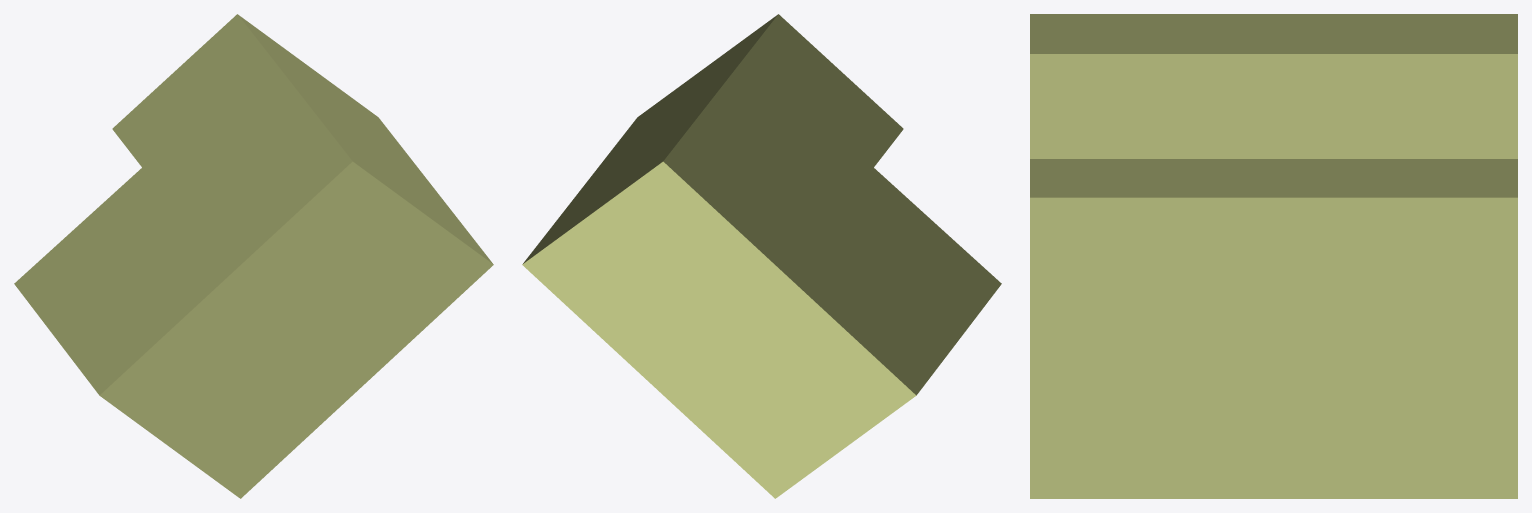
The picture shows the model from 3 angles, left to right: view 1: azimuth 30°, elevation 25°; view 2: azimuth 150°, elevation 25°; view 3: azimuth 270°, elevation 25°; orthographic projection. The views are drawn at different scales.
Visible parts, largest first — view 1: 0_1_0_0_3_0_3_0_2; view 2: 0_1_0_0_3_0_3_0_2; view 3: 0_1_0_0_3_0_3_0_2.
Boxes of the visible parts, x1,y1,x2,y2 form: 0_1_0_0_3_0_3_0_2: [14, 14, 493, 498]; 0_1_0_0_3_0_3_0_2: [522, 14, 1001, 498]; 0_1_0_0_3_0_3_0_2: [1030, 14, 1517, 498].
Size of the model in its own units: 12.47 by 12.24 by 9.
